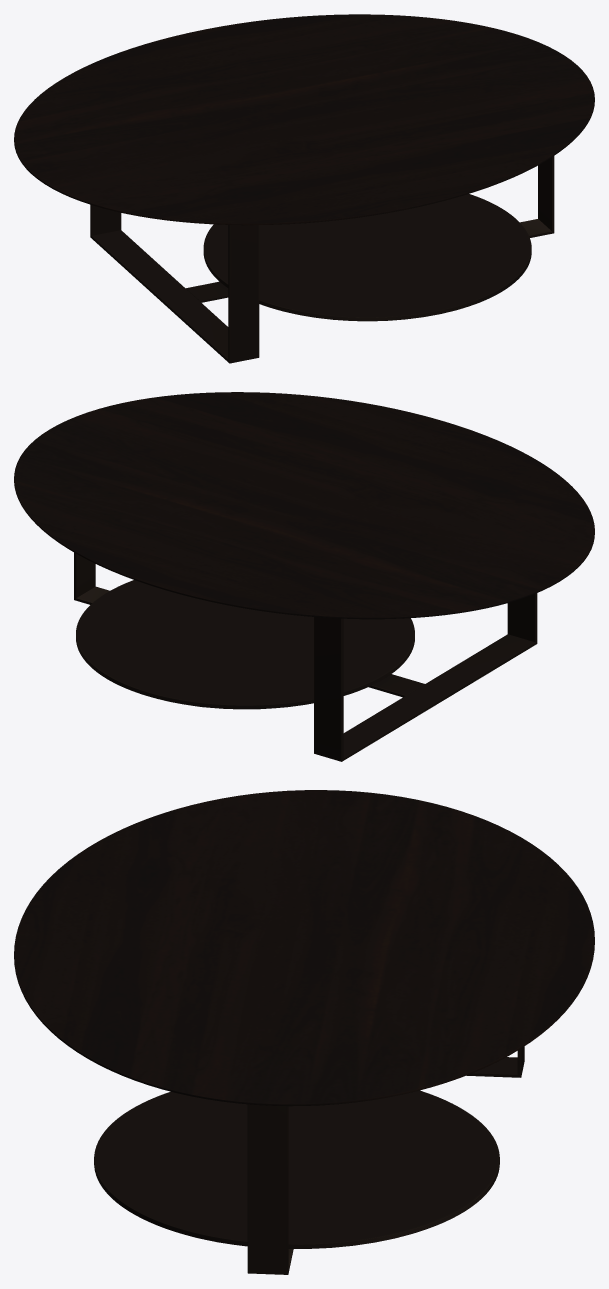
The model's file is Tea_Table_234dedb3-31ee-59aa-9d38-10db515d5e74.glb.
The picture shows the model from 3 angles, top to bottom: view 1: azimuth 30°, elevation 25°; view 2: azimuth 150°, elevation 25°; view 3: azimuth 270°, elevation 25°; orthographic projection. The views are drawn at different scales.
Visible parts, largest first — view 1: raw_model.obj; view 2: raw_model.obj; view 3: raw_model.obj.
Boxes of the visible parts, bbox=[...] form: raw_model.obj: bbox=[14, 14, 594, 363]; raw_model.obj: bbox=[14, 392, 594, 761]; raw_model.obj: bbox=[14, 790, 594, 1274].
Size of the model in its own units: 1.15 by 0.3217 by 0.8947.
1 material, 1 textured.
